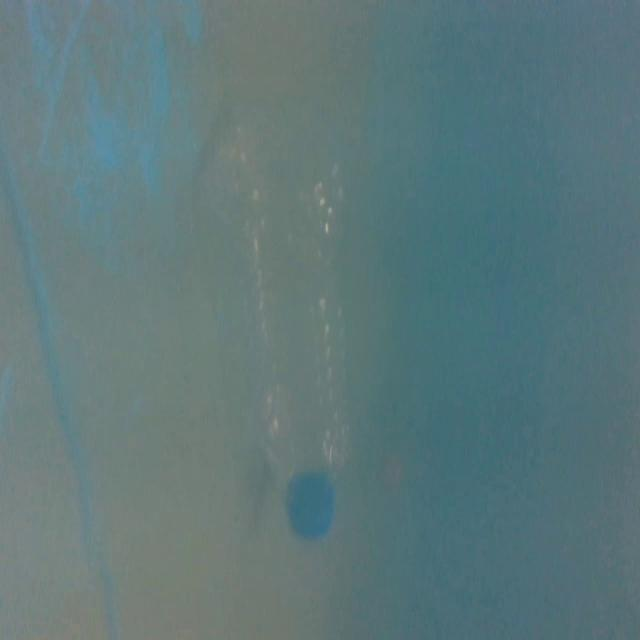plastic bottle: (233, 97, 374, 574)
